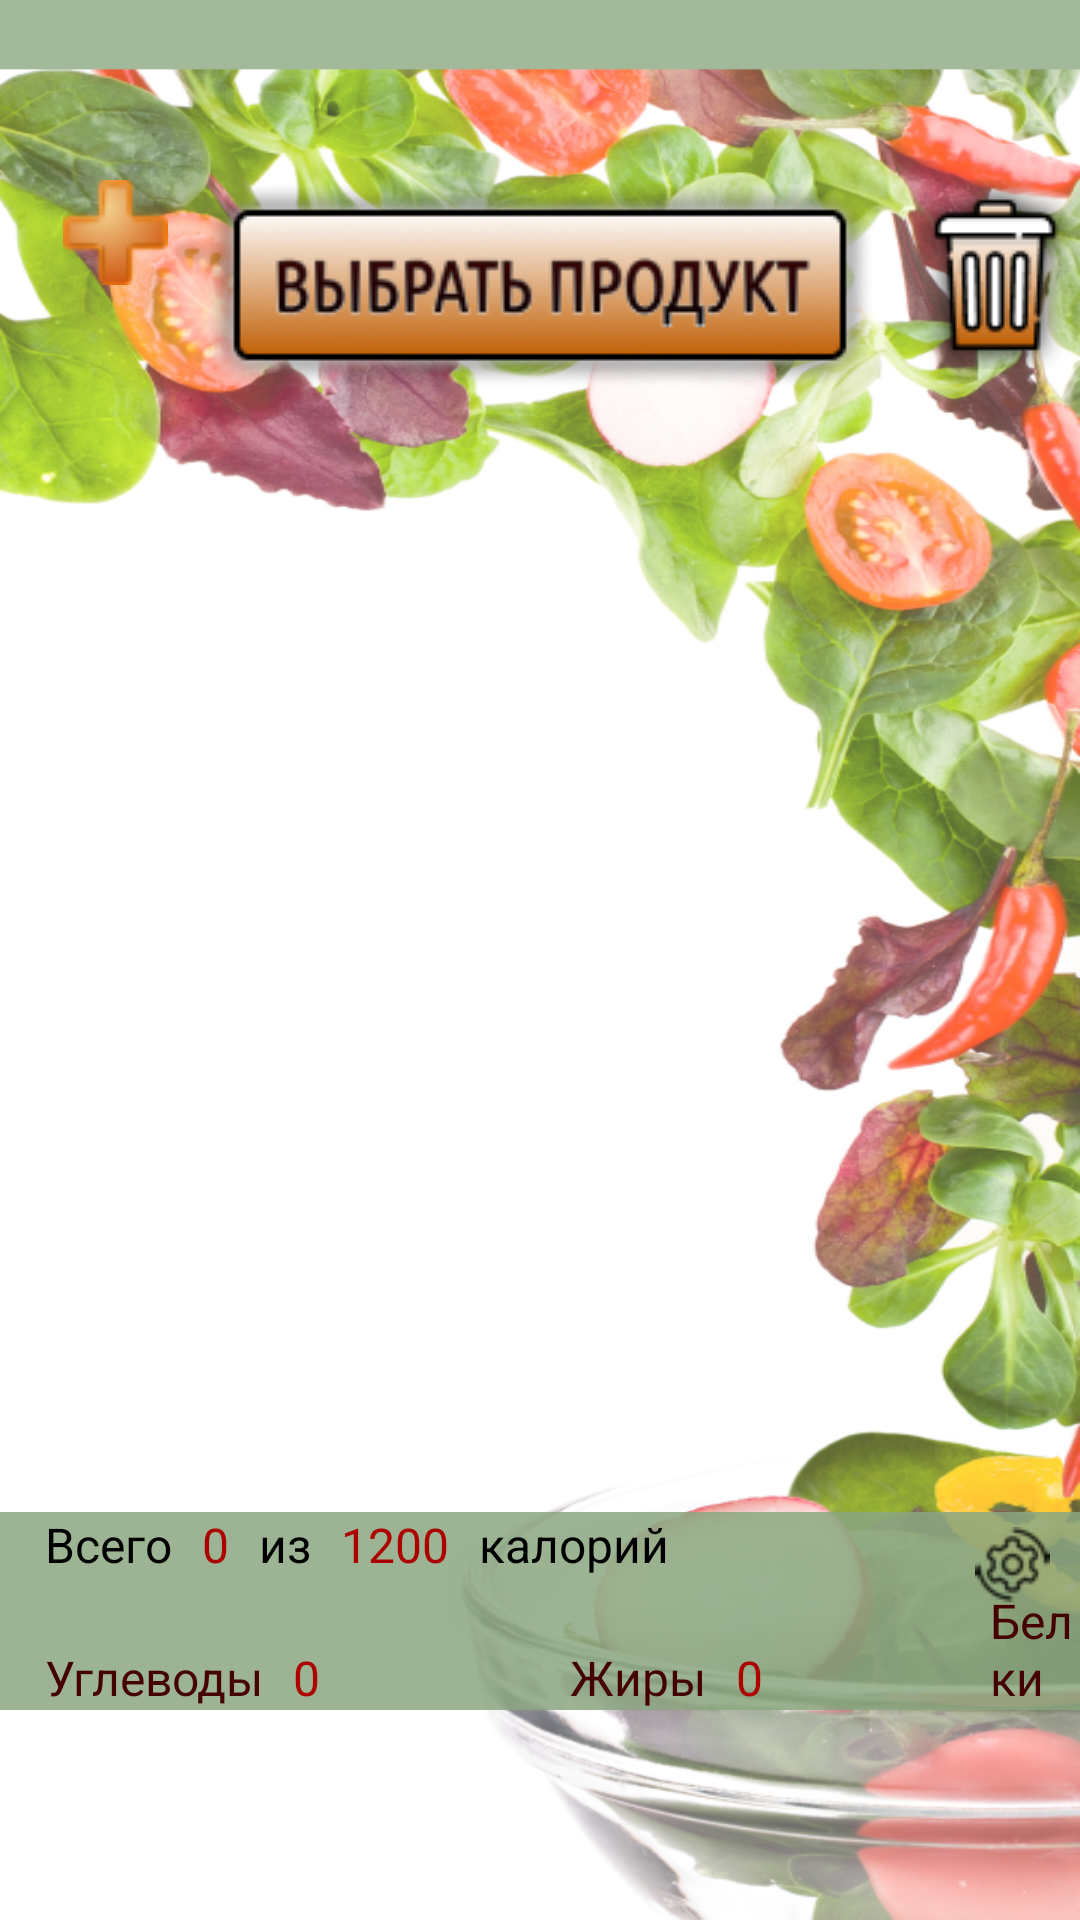

Point at icon controls on the screen. Image size 1080*1920, points as point (x, y).
korzina: point (996, 274)
plus: point (115, 232)
settings: point (1012, 1564)
